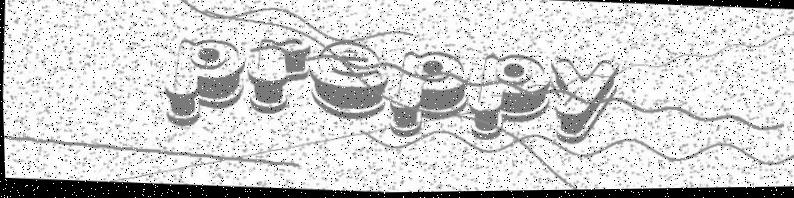e: (305, 33, 392, 124)
p: (384, 41, 471, 142), (465, 48, 552, 148), (163, 31, 249, 129)
r: (248, 32, 312, 116)
y: (543, 54, 623, 152)
